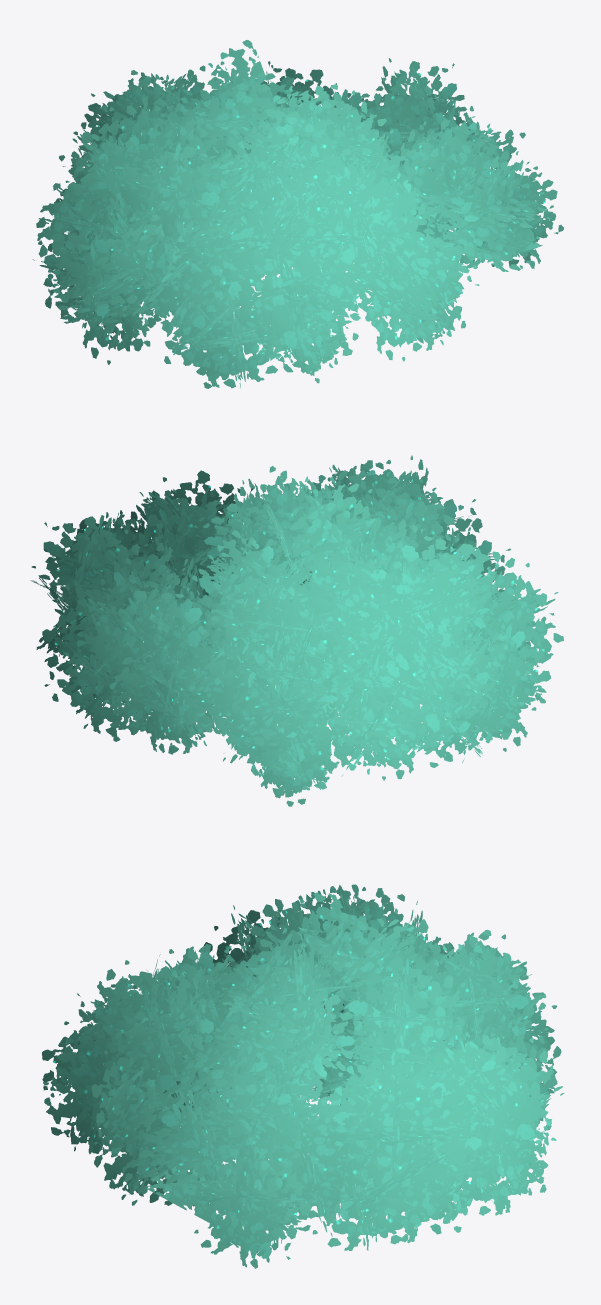
File: SM_ENV_bush_ancient_03.fbx
3 renders of one model, top to bottom at view 1: azimuth 30°, elevation 25°; view 2: azimuth 150°, elevation 25°; view 3: azimuth 270°, elevation 25°, orthographic. The views are drawn at different scales.
Visible parts, largest first — view 1: SM_ENV_bush_ancient_03_LOD0; view 2: SM_ENV_bush_ancient_03_LOD0; view 3: SM_ENV_bush_ancient_03_LOD0.
Part boxes in pixels (bbox=[...]): SM_ENV_bush_ancient_03_LOD0: bbox=[32, 40, 563, 388]; SM_ENV_bush_ancient_03_LOD0: bbox=[30, 455, 563, 806]; SM_ENV_bush_ancient_03_LOD0: bbox=[42, 884, 564, 1268].
Size of the model in its own units: 247 by 133 by 224.
